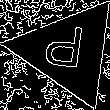P_S: (45, 24, 92, 79)
